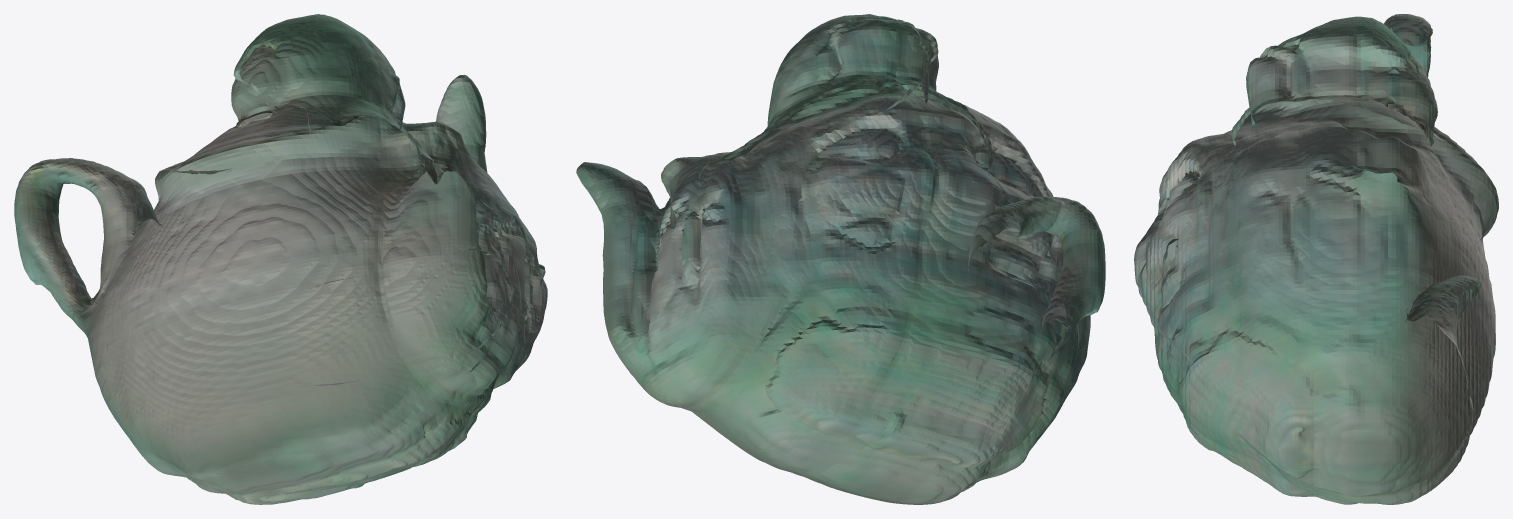
3 views of the same model, side by side, from view 1: azimuth 30°, elevation 25°; view 2: azimuth 150°, elevation 25°; view 3: azimuth 270°, elevation 25° (orthographic).
Visible parts, largest first — view 1: geometry_0; view 2: geometry_0; view 3: geometry_0.
Boxes of the visible parts, x1,y1,x2,y2 form: geometry_0: (14,14,547,504); geometry_0: (576,14,1105,504); geometry_0: (1134,14,1498,504).
Size of the model in its own units: 1.6 by 1.41 by 1.04.
